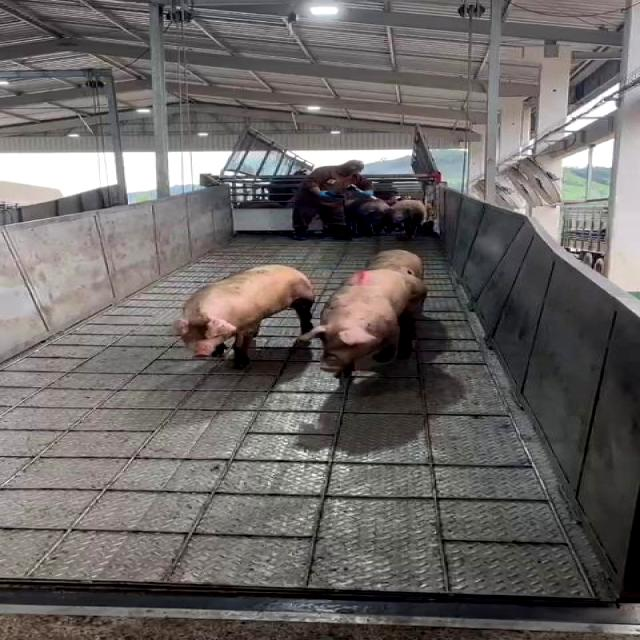pig: (174, 265, 315, 367), (298, 270, 425, 376), (367, 250, 422, 279)
